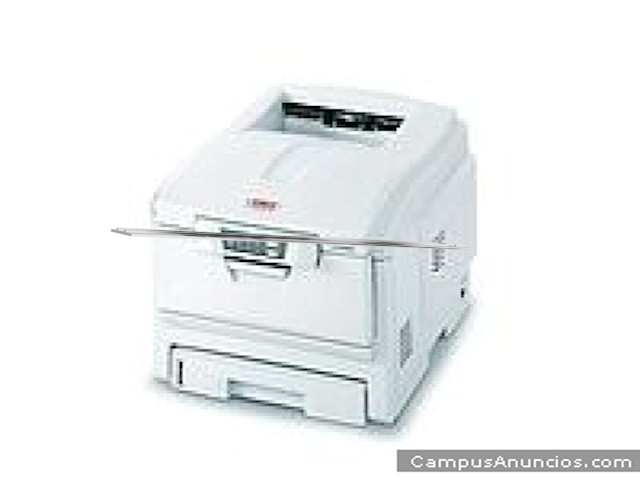ruler: (105, 225, 480, 256)
